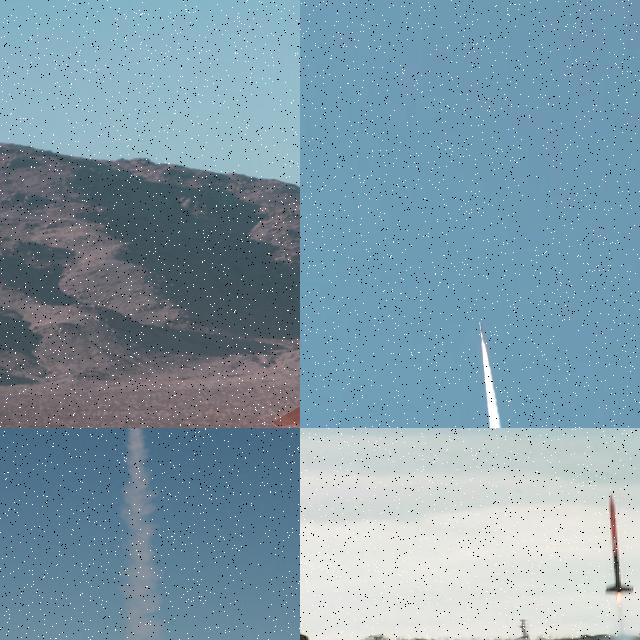Rocket: (271, 299, 300, 428), (602, 493, 636, 595), (479, 322, 484, 341)
